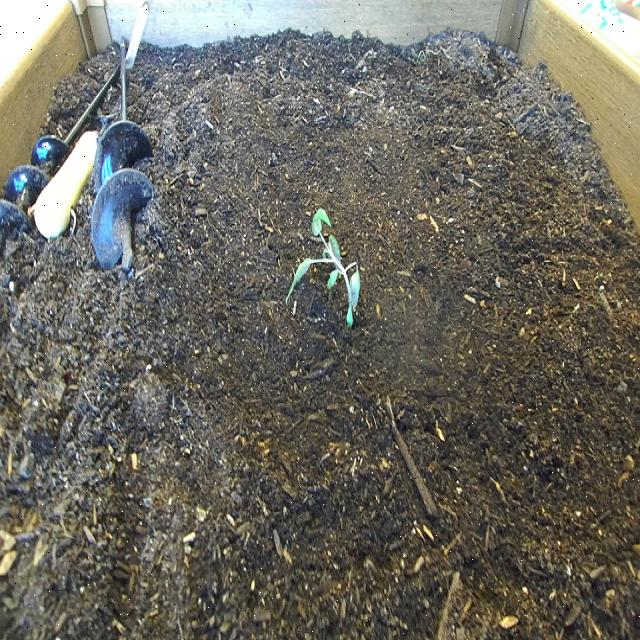Unhealthy: (284, 199, 368, 338)
